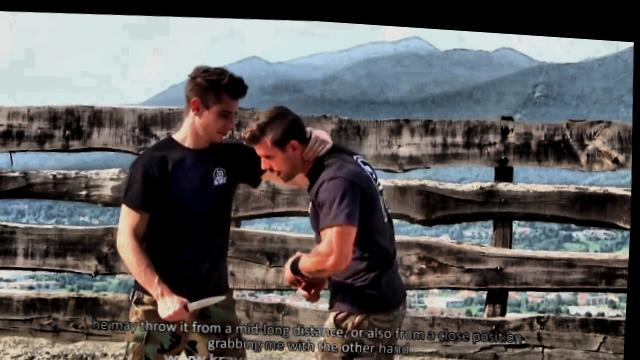knife: (158, 282, 234, 324)
